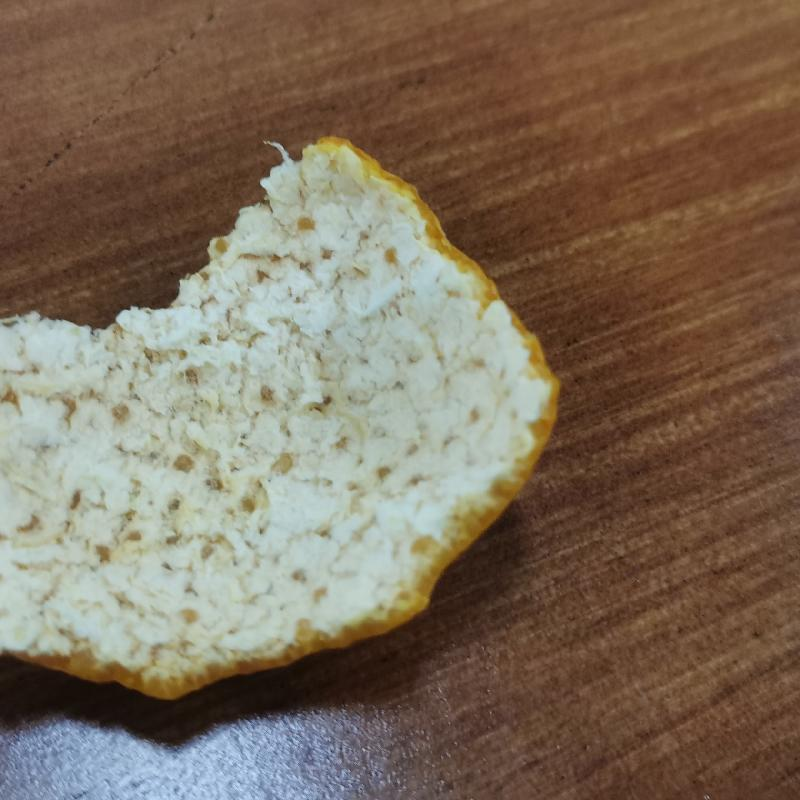orange: (0, 126, 561, 706)
